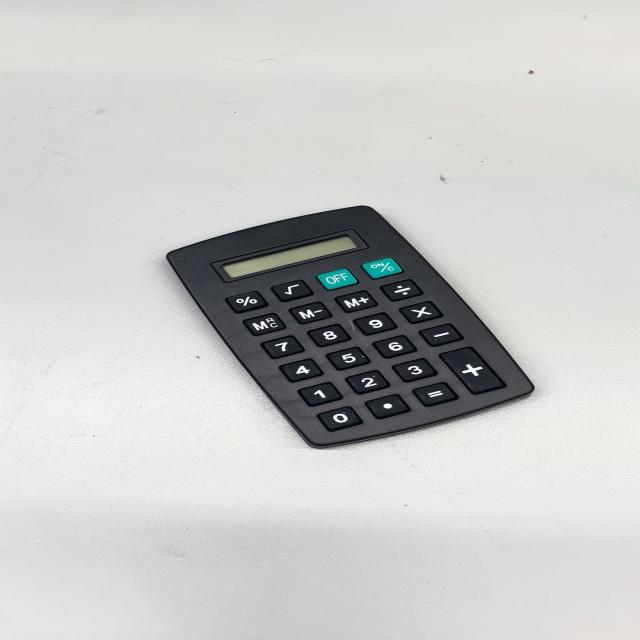calculator: (153, 205, 539, 453)
